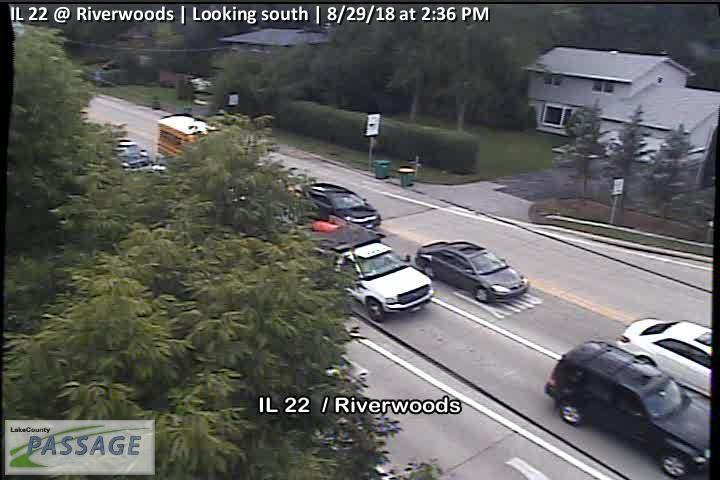SUV: (545, 341, 710, 478), (301, 182, 381, 229)
Sedan: (614, 317, 712, 396), (415, 241, 529, 304)
Truck: (304, 216, 436, 322)
